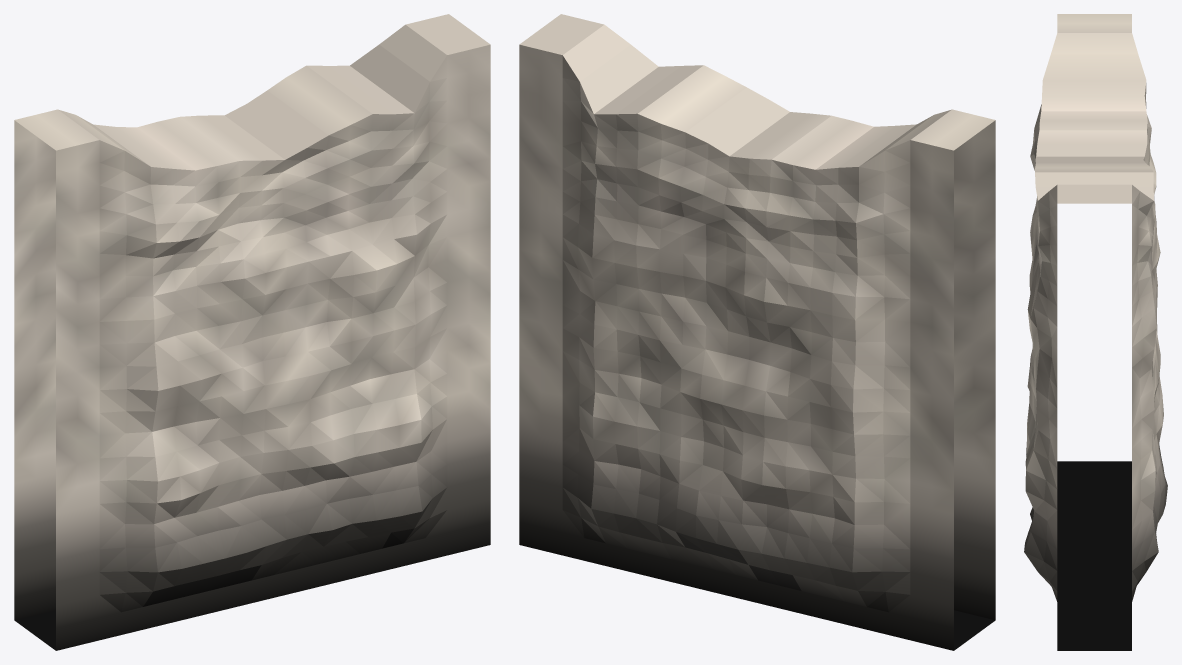
Rendered from SM_VKI_Wall_Cave_Plain_300_Full.fbx.
The picture shows the model from 3 angles, left to right: view 1: azimuth 30°, elevation 25°; view 2: azimuth 150°, elevation 25°; view 3: azimuth 270°, elevation 25°; orthographic projection. The views are drawn at different scales.
Parts seen in each view (by area): view 1: SM_VKI_Wall_Cave_Plain_300_Full.001; view 2: SM_VKI_Wall_Cave_Plain_300_Full.001; view 3: SM_VKI_Wall_Cave_Plain_300_Full.001.
Part boxes in pixels (x1=…): SM_VKI_Wall_Cave_Plain_300_Full.001: x1=14, y1=14, x2=490, y2=650; SM_VKI_Wall_Cave_Plain_300_Full.001: x1=519, y1=14, x2=995, y2=650; SM_VKI_Wall_Cave_Plain_300_Full.001: x1=1024, y1=14, x2=1167, y2=650.
Bounding box in the file's own units: 3 × 3.3 × 0.962.
